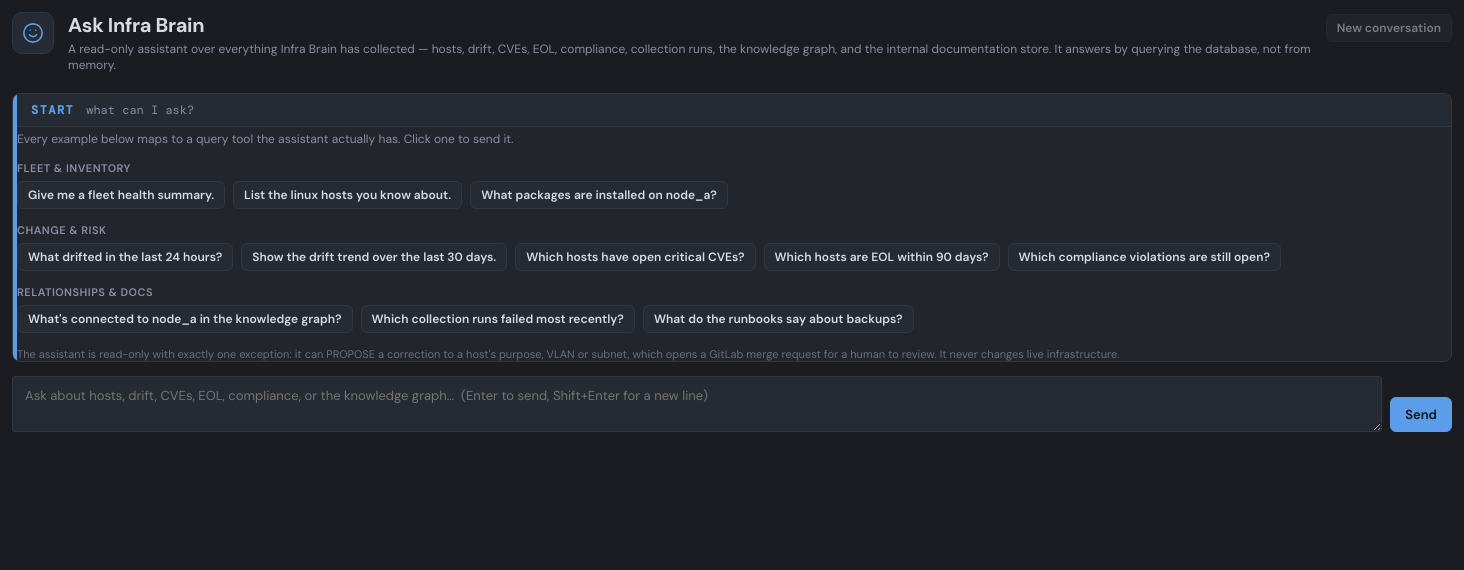
it: Chat page — error state › renders the backend's structured error as a what-to-check checklist
Replace the text in the text box named "Ask a question" with "hello" at (697,404), box x1=12 y1=376 x2=1382 y2=432
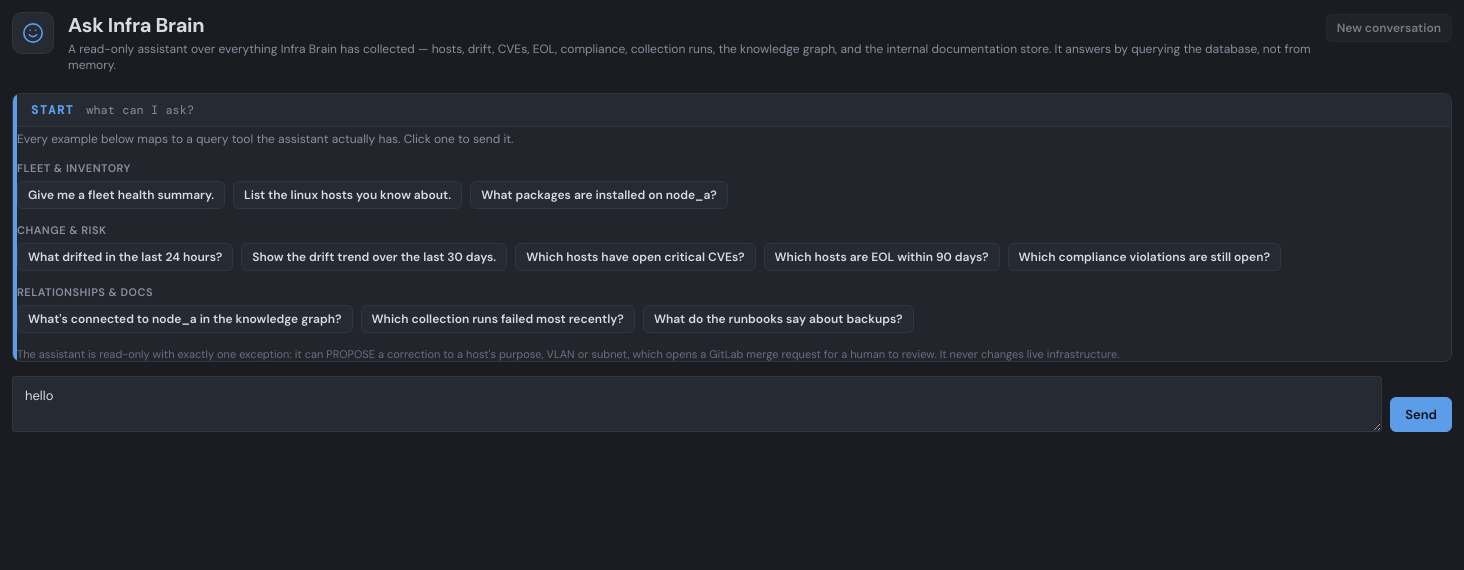
Click the button "Send" at (1421,414), box x1=1390 y1=397 x2=1452 y2=432
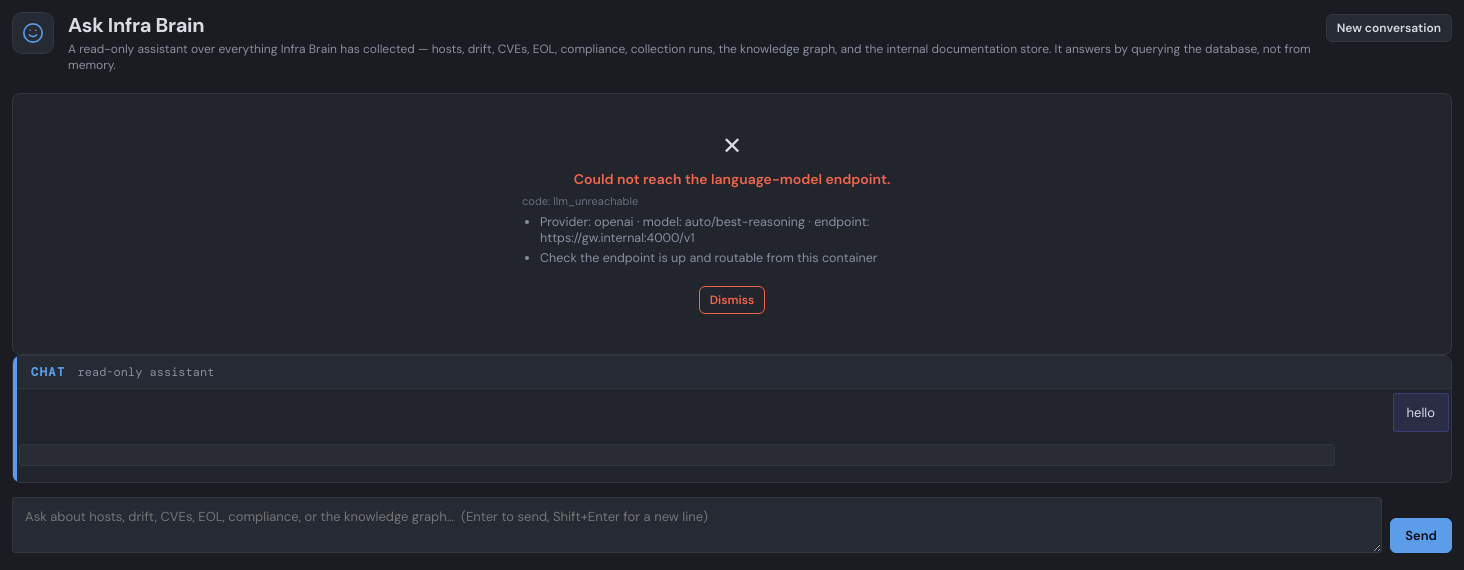
expect the text "Could not reach the language-model endpoint." is shown: met, box x1=574 y1=170 x2=890 y2=188
expect the text "code: llm_unreachable" is shown: met, box x1=522 y1=194 x2=638 y2=208
expect the list item "endpoint: https://gw.internal:4000/v1" is shown: met, box x1=540 y1=214 x2=869 y2=246
